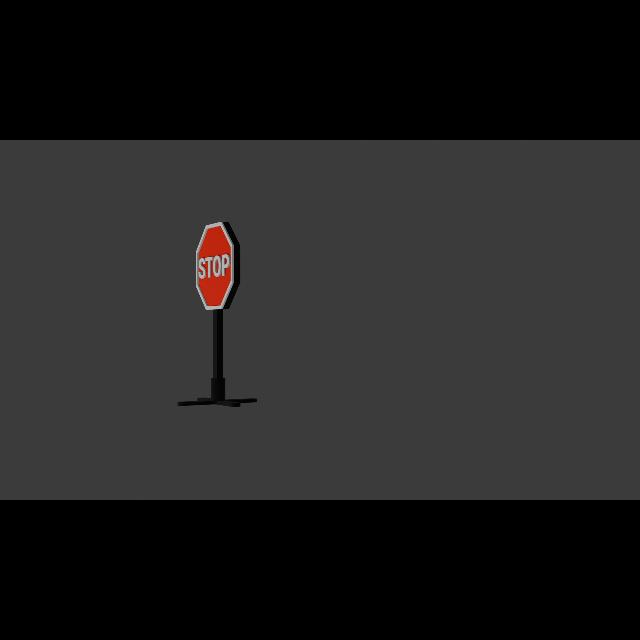sign_stop: (196, 225, 240, 314)
